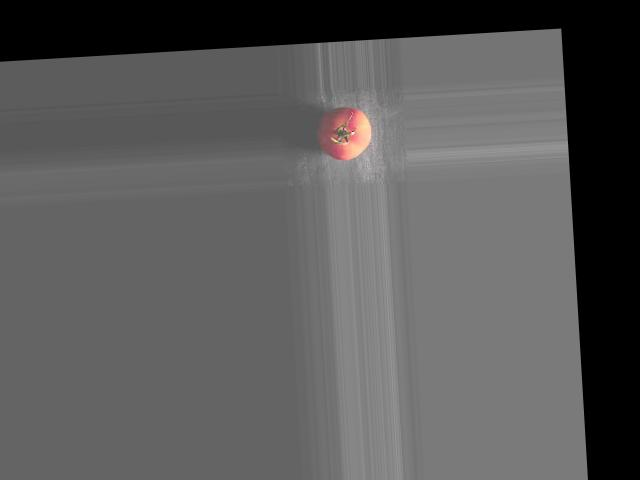tomato: (316, 106, 372, 161)
